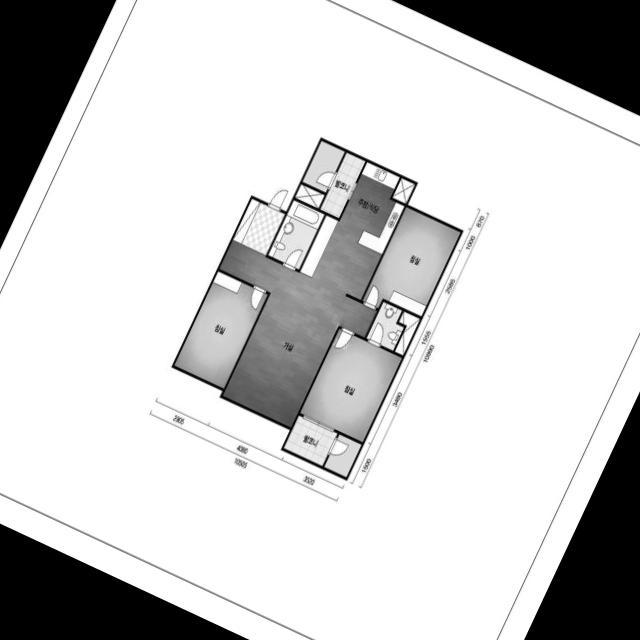background: (0, 0, 640, 640)
space_balconi: (320, 153, 365, 219), (283, 415, 337, 466)
space_bedroom: (300, 329, 402, 443), (174, 271, 268, 389), (362, 208, 460, 317)
space_front: (232, 199, 285, 256)
space_kitchen: (300, 162, 404, 300)
space_living_room: (219, 242, 377, 428)
space_other: (302, 141, 345, 193), (324, 434, 361, 478), (394, 311, 420, 356), (295, 184, 325, 209), (392, 178, 415, 204)
space_toilet: (268, 200, 325, 270), (366, 302, 404, 351)
